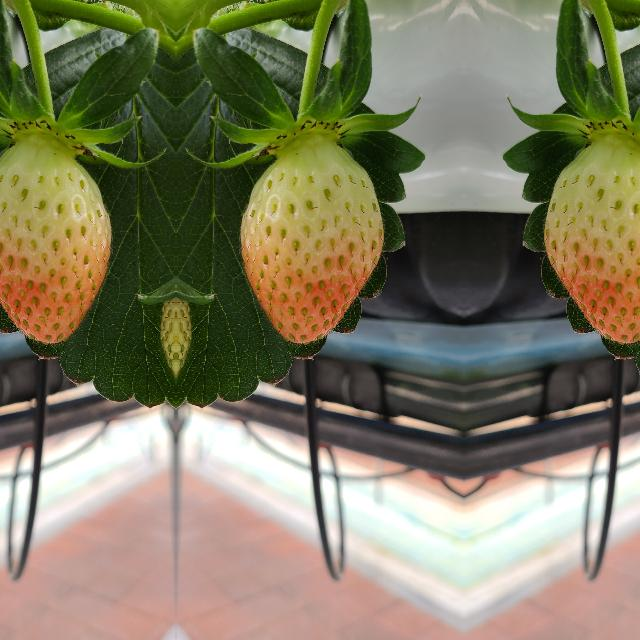Health_50: (236, 144, 386, 348), (0, 144, 114, 347), (540, 144, 640, 347)
